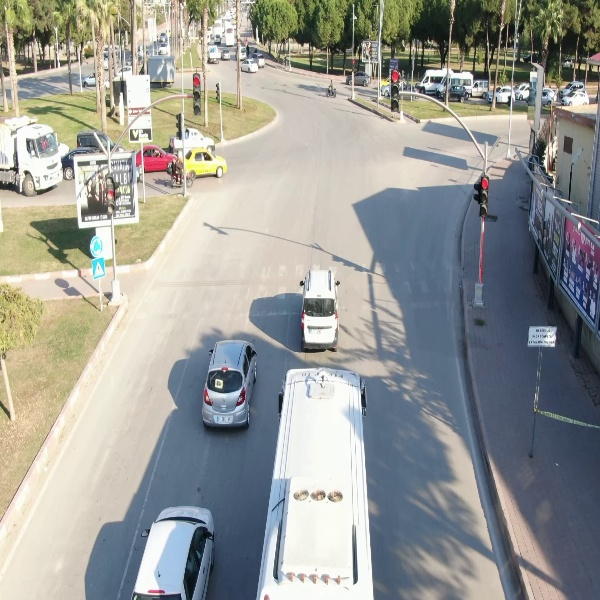car: (200, 339, 260, 430), (299, 268, 343, 351), (486, 86, 517, 106), (561, 89, 591, 108), (342, 71, 372, 88), (439, 85, 469, 102), (240, 57, 260, 72), (220, 49, 231, 59)
